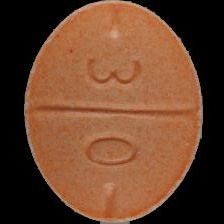16590-901: (0, 0, 224, 224)
